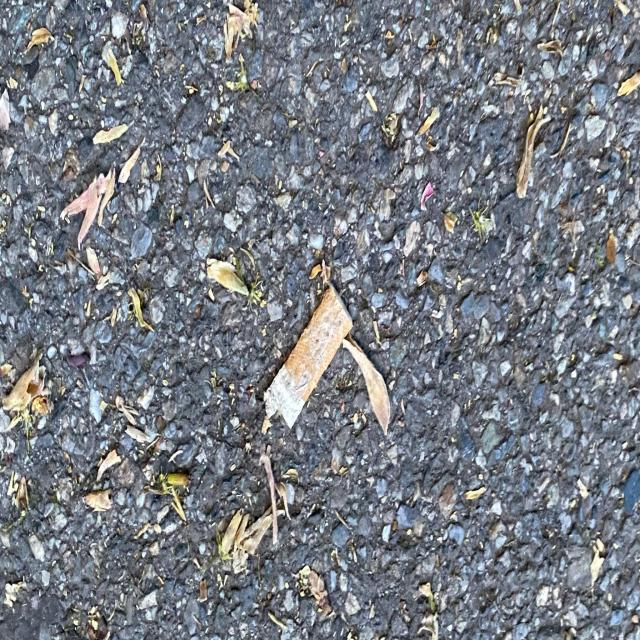other waste: (262, 283, 354, 444)
